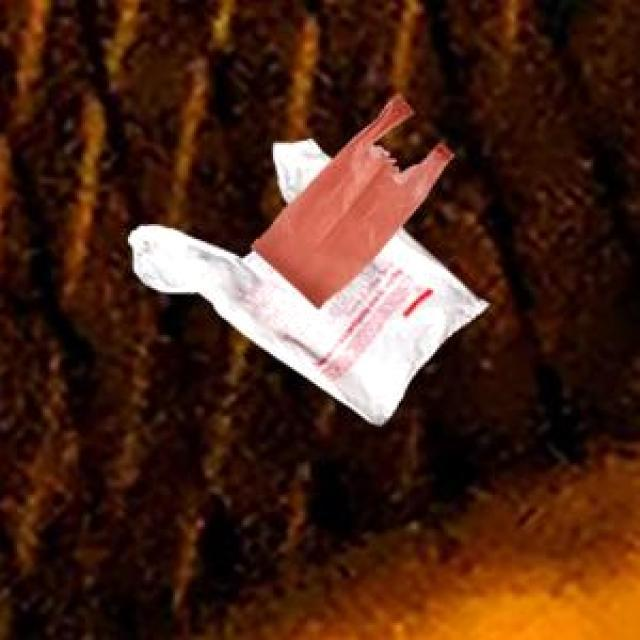Plastic_Bag: (124, 136, 486, 422), (248, 92, 450, 306)
